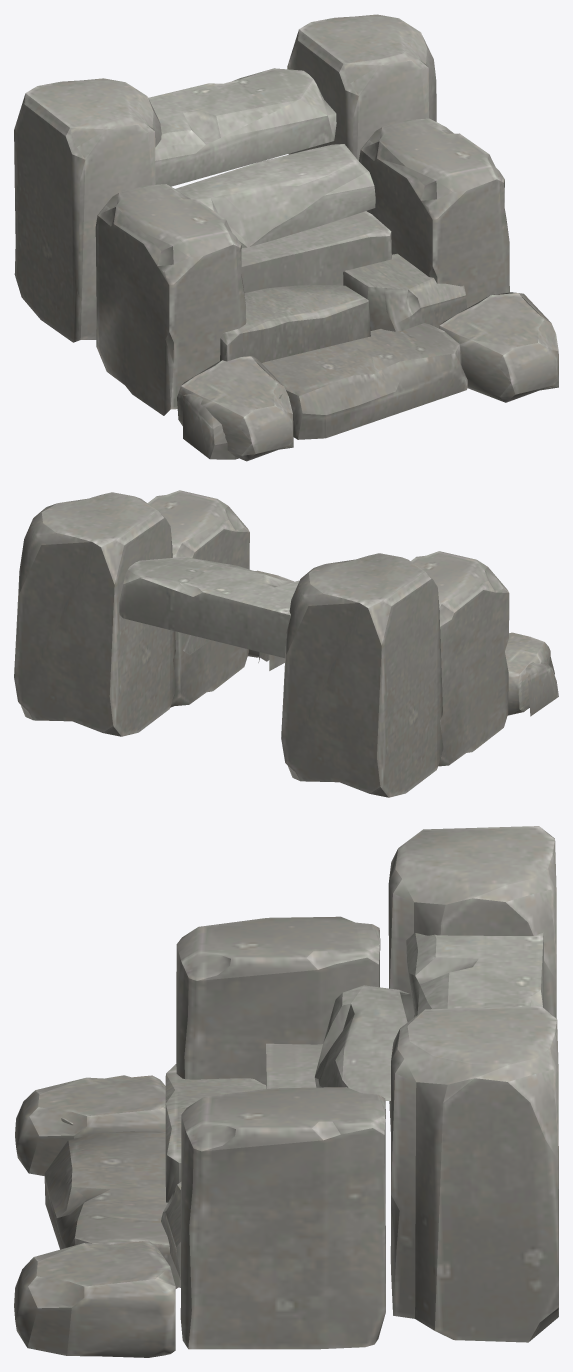
File: ramp_wall_snql_000a.fbx
3 views of the same model, one above another, from view 1: azimuth 30°, elevation 25°; view 2: azimuth 150°, elevation 25°; view 3: azimuth 270°, elevation 25° (orthographic). The views are drawn at different scales.
Parts seen in each view (by area): view 1: ramp_wall_snql_000a; view 2: ramp_wall_snql_000a; view 3: ramp_wall_snql_000a.
Boxes of the visible parts, x1=… form: ramp_wall_snql_000a: x1=14, y1=14, x2=558, y2=461; ramp_wall_snql_000a: x1=14, y1=490, x2=558, y2=797; ramp_wall_snql_000a: x1=14, y1=826, x2=558, y2=1357.
Size of the model in its own units: 27353 by 16224 by 26097.
